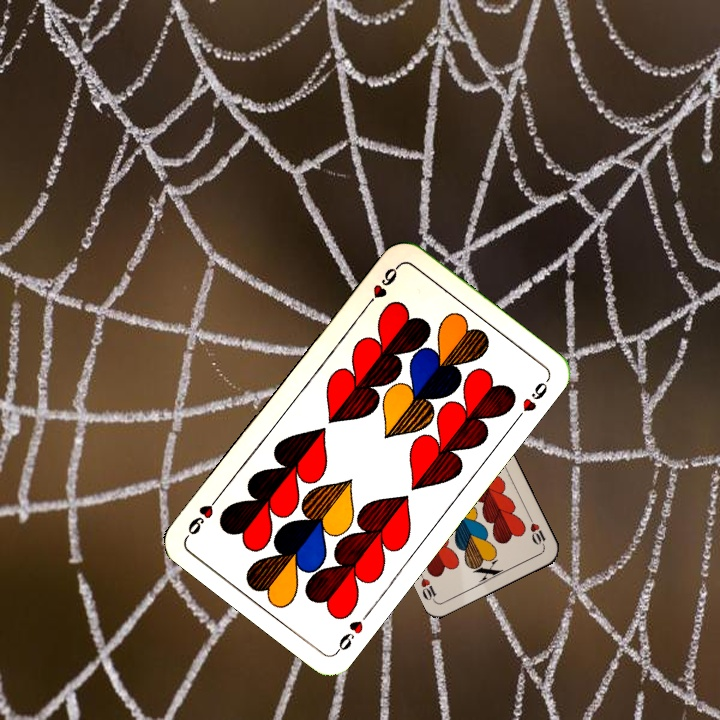H10: (524, 511, 548, 549)
H9: (361, 261, 402, 311), (332, 616, 366, 655)
